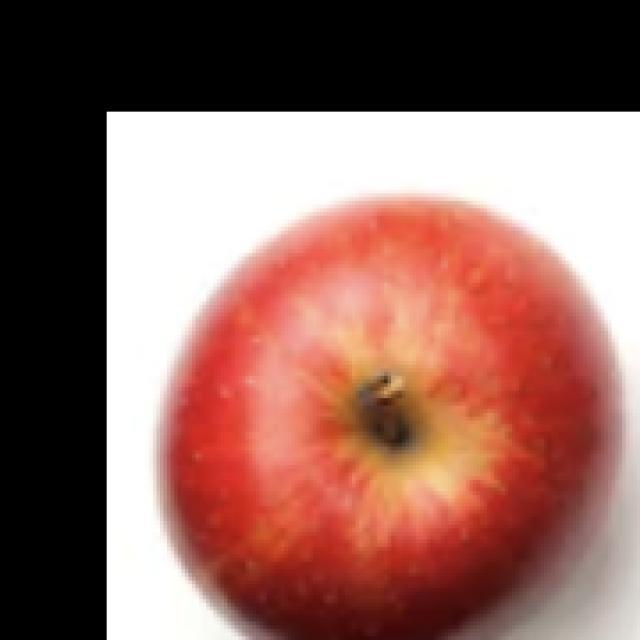Fresh Apple: (152, 194, 624, 640)
